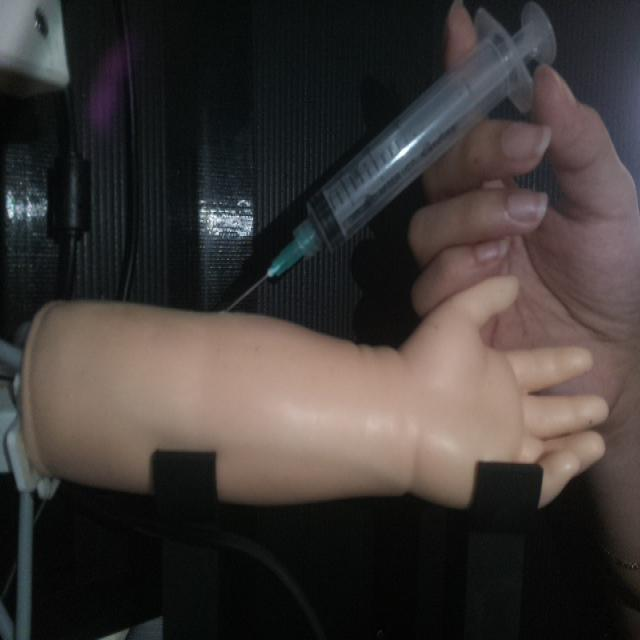Outside: (218, 4, 562, 318)
